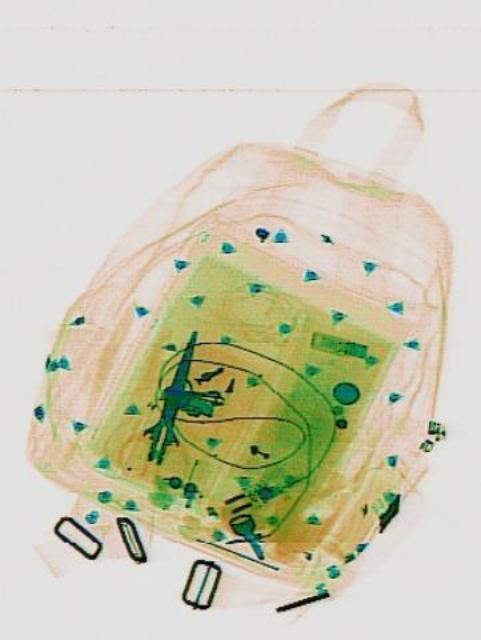Knife: (132, 316, 213, 469)
